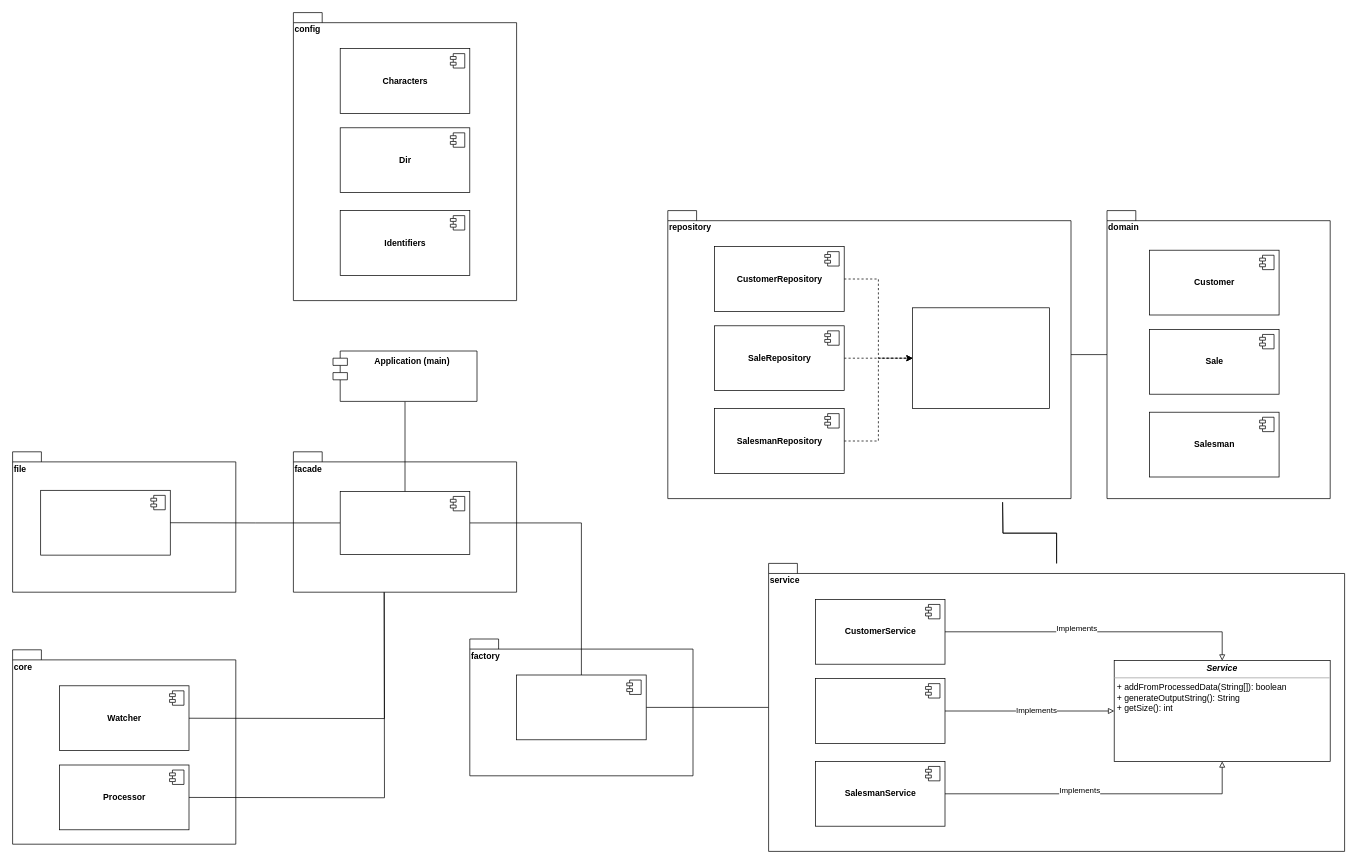
Image size: 1357x864. Some labels were removed from this diagram. The centre of each missing label's shape, as x and y in pixels:
<<Interface>> Repository<T> + save(T): boolean + size(): int + getAll(): List<T>: (980,358)
AppFacade: (404,522)
Output: (105,522)
SaleService: (880,710)
ServiceFactory: (581,707)
